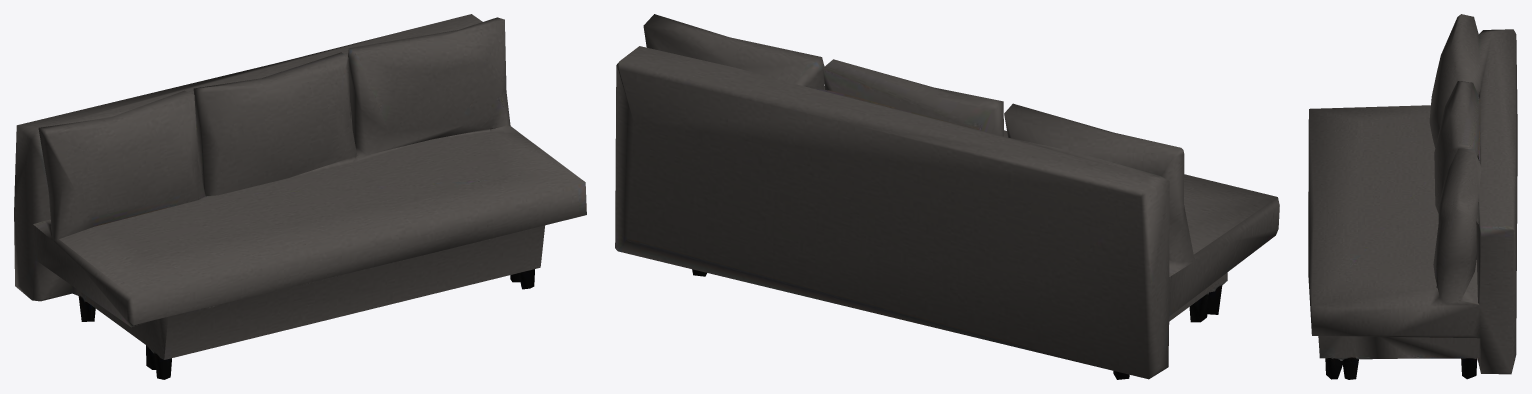
File: 10 - ÄLVDALEN 3-seat sofa-bed - Knisa dark grey.glb
The picture shows the model from 3 angles, left to right: view 1: azimuth 30°, elevation 25°; view 2: azimuth 150°, elevation 25°; view 3: azimuth 270°, elevation 25°; orthographic projection. The views are drawn at different scales.
Parts seen in each view (by area): view 1: 80462596-Ãƒâ€žLVDALEN001; view 2: 80462596-Ãƒâ€žLVDALEN001; view 3: 80462596-Ãƒâ€žLVDALEN001.
Boxes of the visible parts, bbox=[...] form: 80462596-Ãƒâ€žLVDALEN001: bbox=[14, 14, 586, 379]; 80462596-Ãƒâ€žLVDALEN001: bbox=[615, 14, 1279, 379]; 80462596-Ãƒâ€žLVDALEN001: bbox=[1308, 14, 1517, 379].
Size of the model in its own units: 1.95 by 0.8342 by 0.8499.
Materials: 1 (1 with a texture image).
